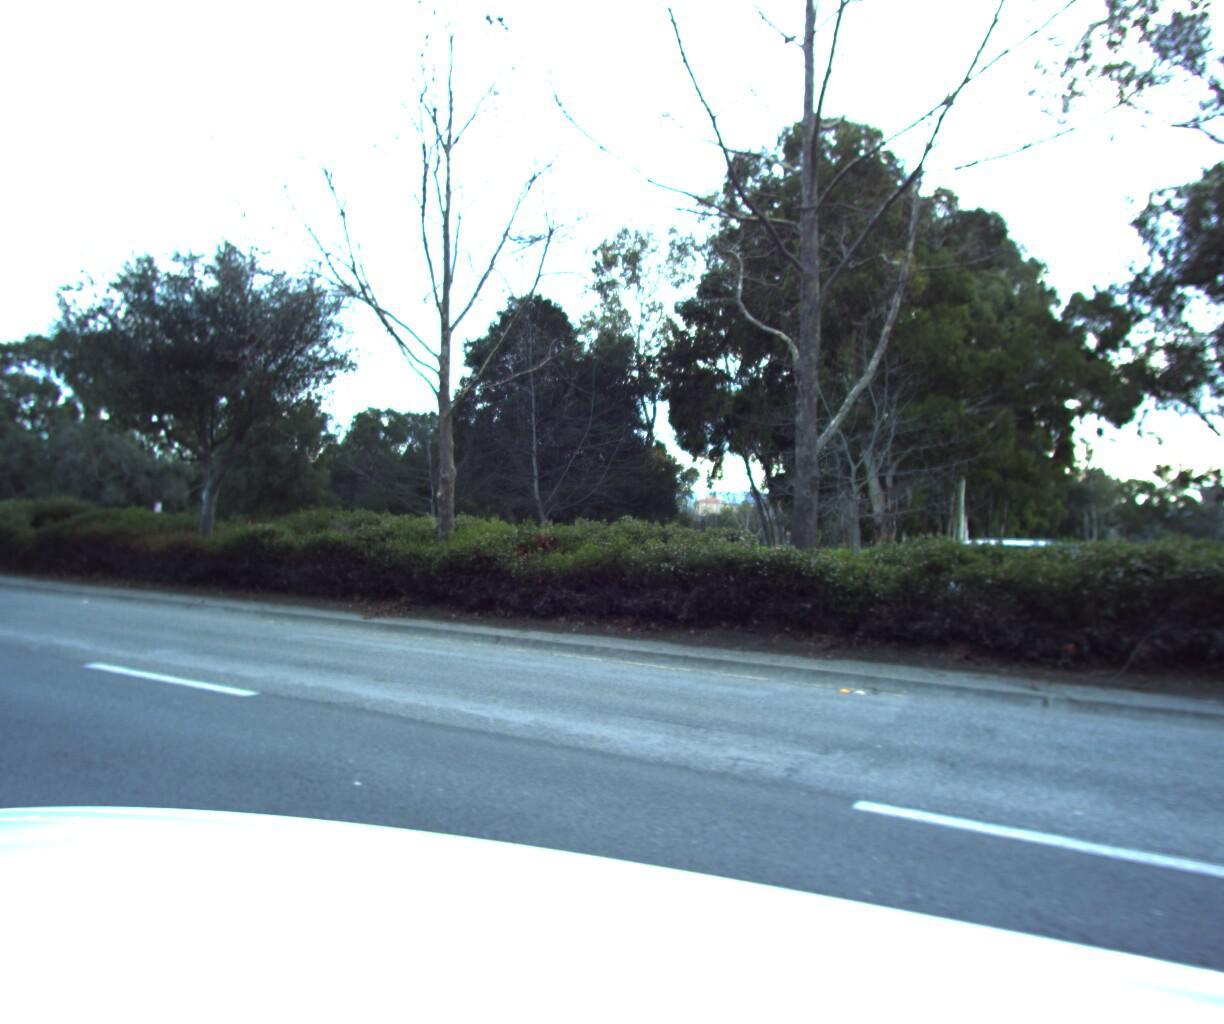car: (860, 527, 1112, 634)
